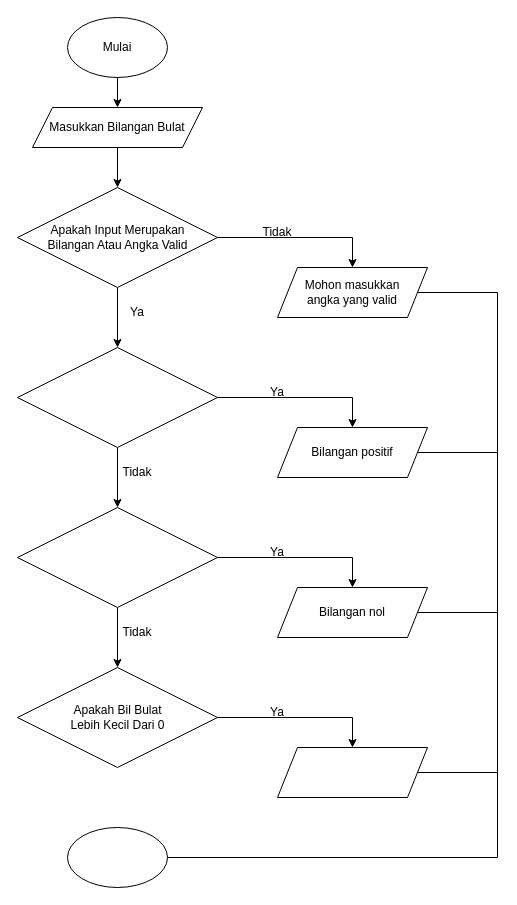
Some shapes in this 517 by 905 pixel diagram are drawn without their labels. The centre of each missing label's shape, as x and y in pixels:
Apakah Bil Bulat Lebih Besar Dari 0: (117,397)
Apakah Bil Bulat Sama Dengan 0: (117,557)
Bilangan negatif: (352,772)
Selesai: (117,857)
